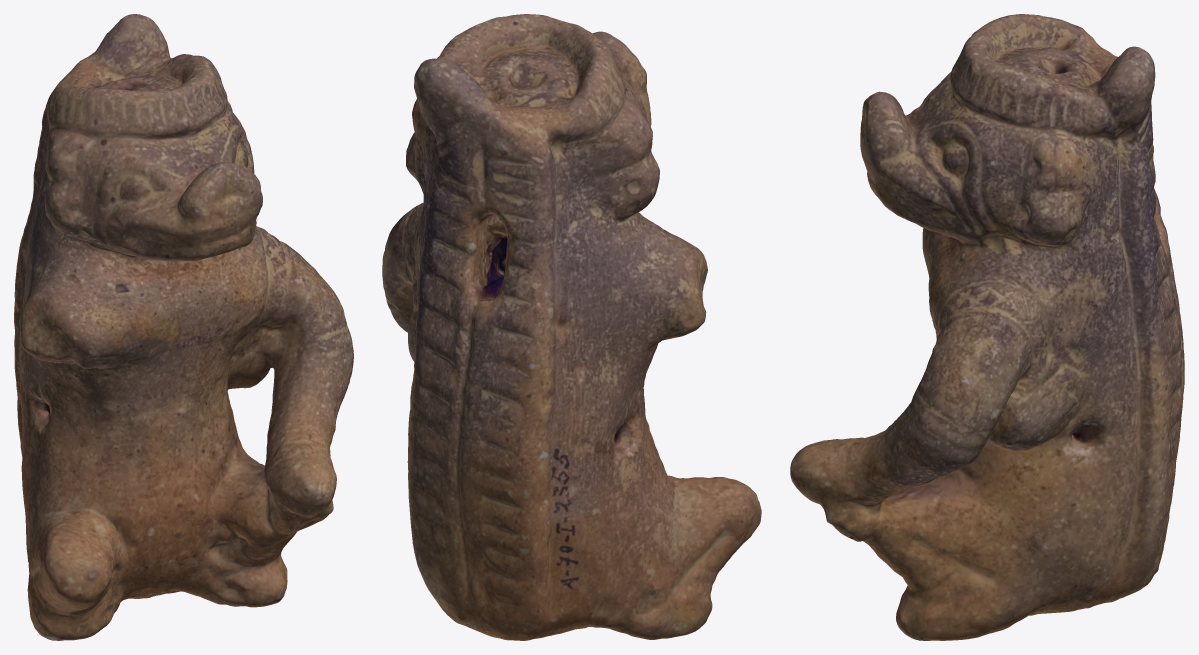
The model's file is instrumento_musical_zoomorfo.lod1.glb.
3 views of the same model, side by side, from view 1: azimuth 30°, elevation 25°; view 2: azimuth 150°, elevation 25°; view 3: azimuth 270°, elevation 25° (orthographic). The views are drawn at different scales.
Parts seen in each view (by area): view 1: Object_2; view 2: Object_2; view 3: Object_2.
Boxes of the visible parts, <box> form: Object_2: <box>14,14,353,640</box>; Object_2: <box>382,14,761,640</box>; Object_2: <box>790,14,1184,640</box>.
Size of the model in its own units: 0.1521 by 0.2429 by 0.1506.
1 material, 1 textured.
